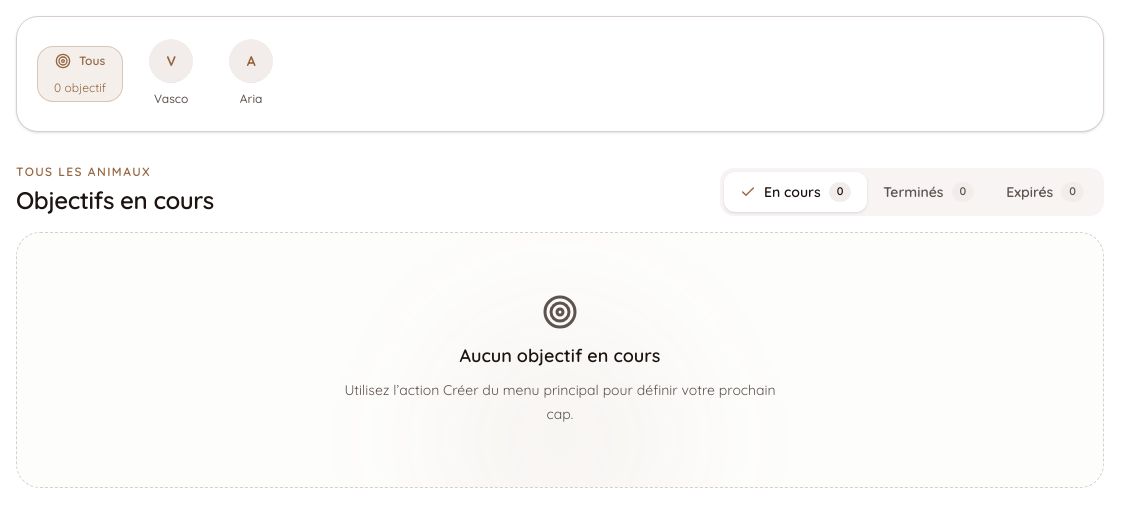
ObjectivesContent › emploie le pluriel animaux lorsque plusieurs animaux sont sélectionnés
This screenshot has width=1121, height=505.
Click the button "V Vasco" at (171, 72), box [139,33,203,111]
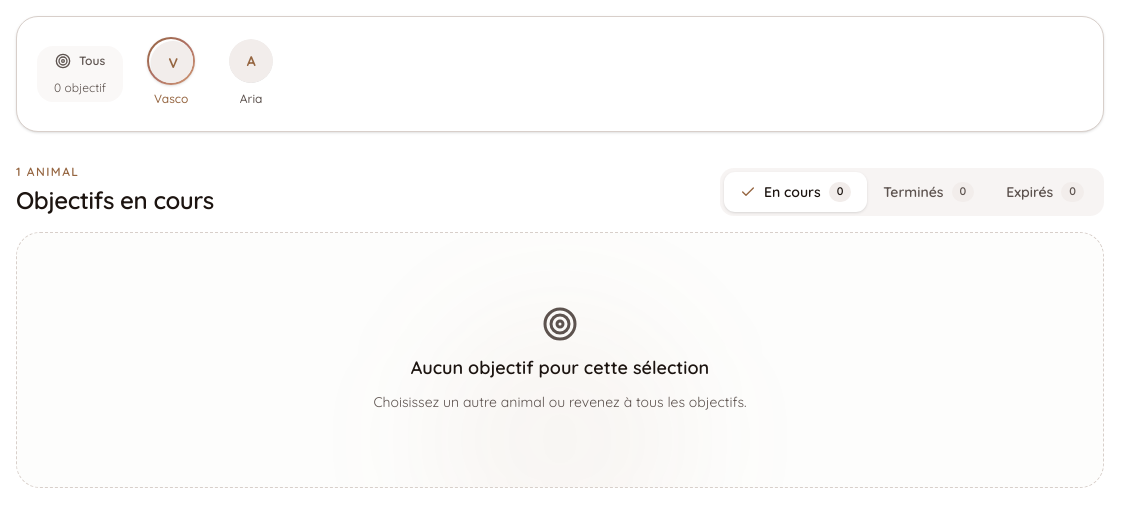
Click the button "A Aria" at (251, 72), box [219,33,283,111]
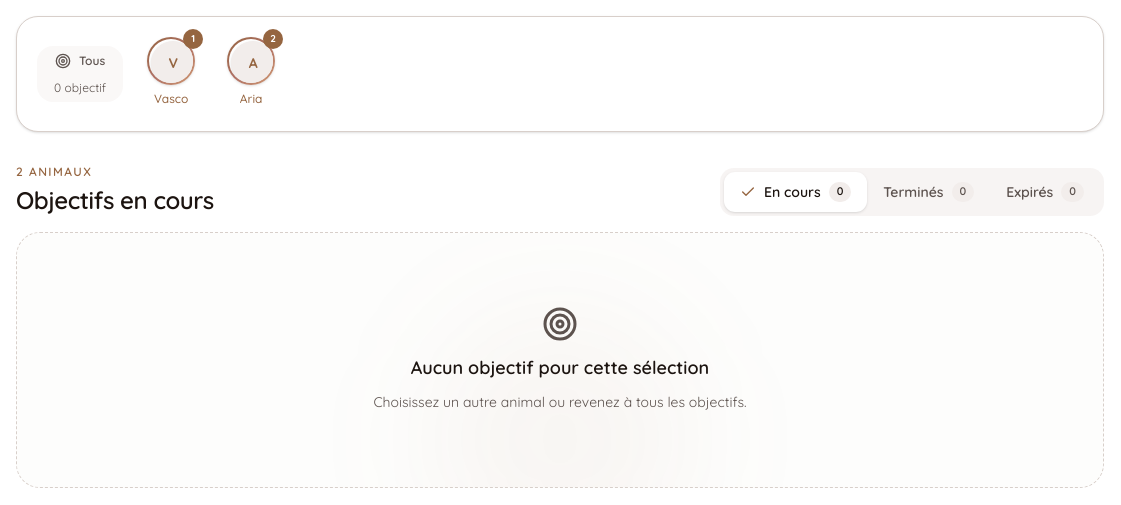
Check: the text "2 animaux" is shown, box [16,164,92,179]
